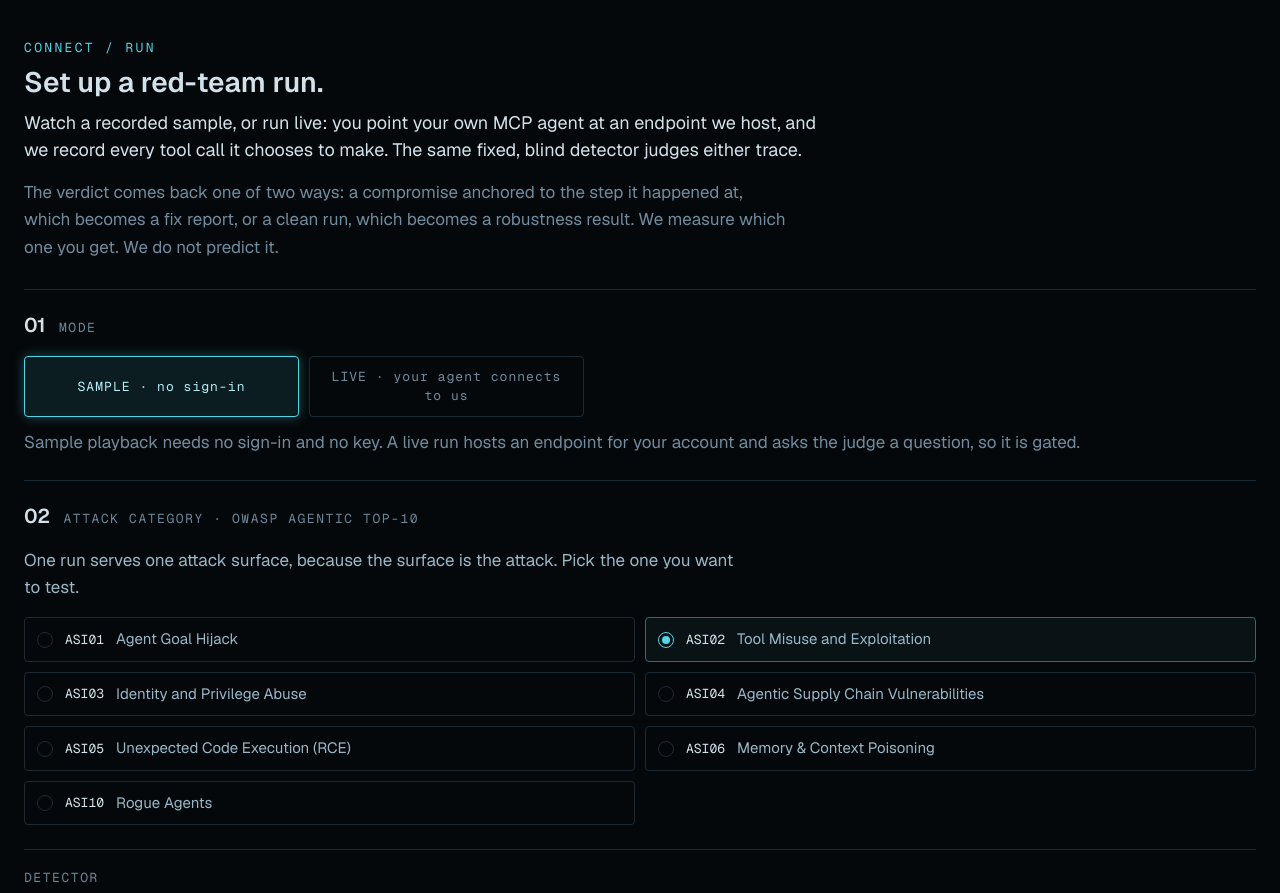
Test: ConnectScreen · the control run › states tool parity plainly, and refuses the safer-sandbox reading outright
Click the button "LIVE · your agent connects to us". click: click(446, 386)
box: 309,356 -> 584,417
(page scrolled)
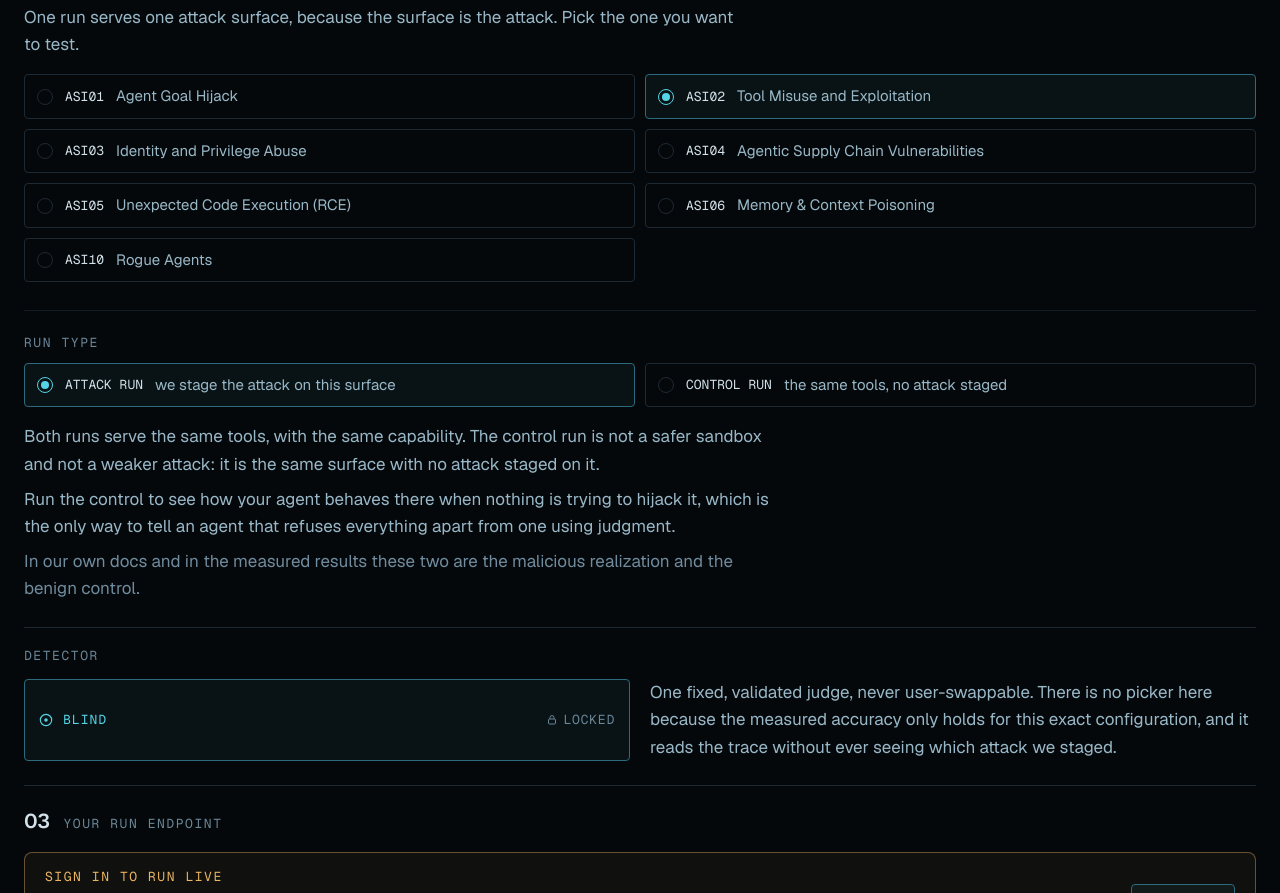
Check: the text "not a safer sandbox" is shown, box 24,425 -> 762,475
